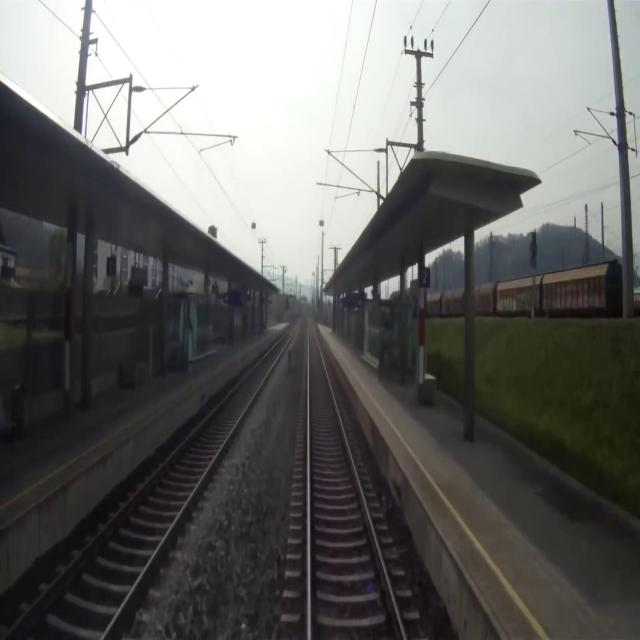rail-track: (7, 328, 293, 639), (309, 315, 402, 639)
